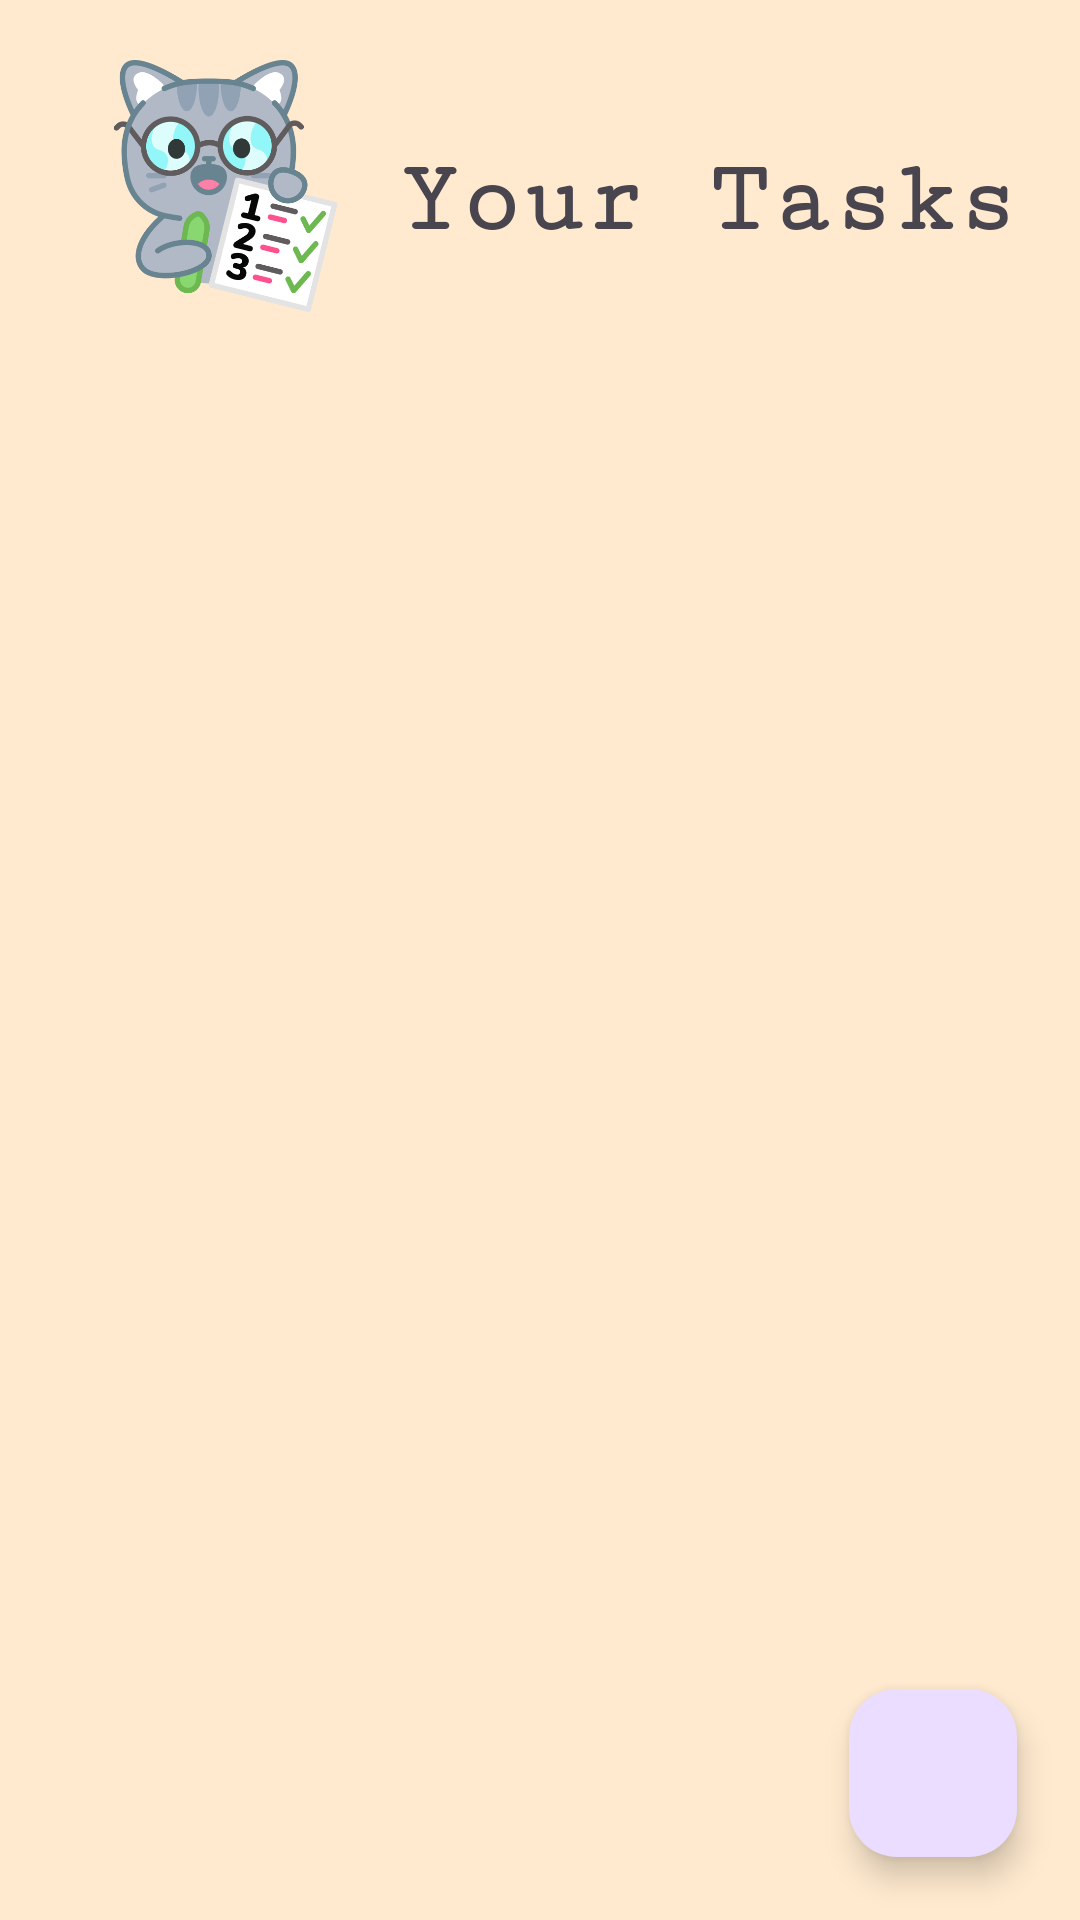

Locate icon controls on the screen. Image size 1080 x 1920, boxes as (x1, y1, x2, y2).
todo: (114, 60, 337, 312)
